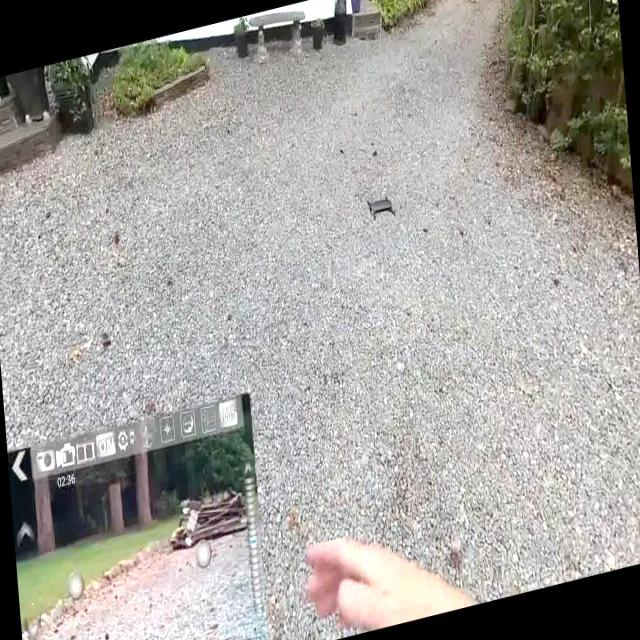drone: (362, 184, 399, 234)
